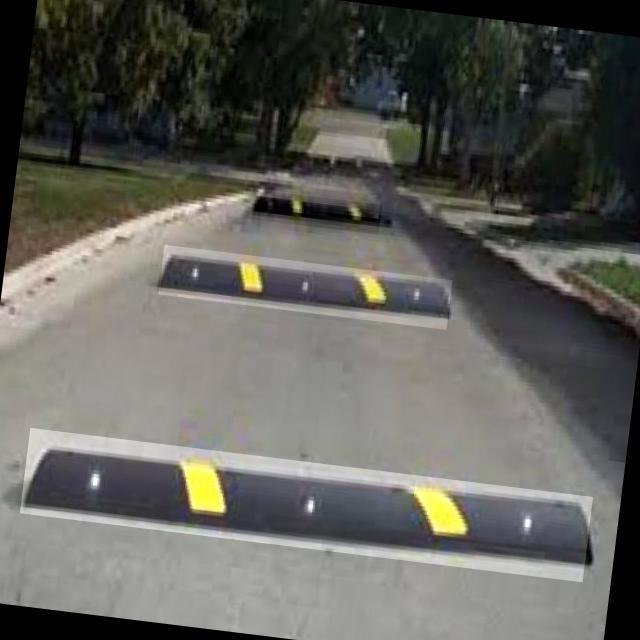speedbreaker: (20, 427, 592, 582), (158, 244, 452, 330), (242, 188, 382, 234)
